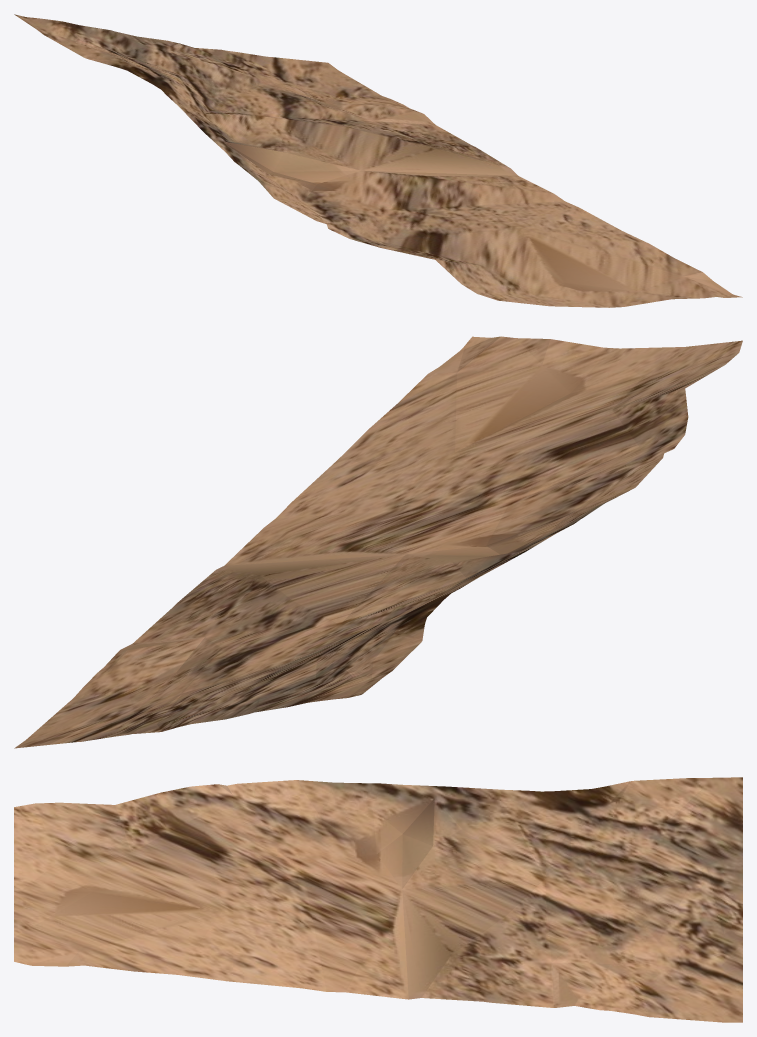
3 views of the same model, one above another, from view 1: azimuth 30°, elevation 25°; view 2: azimuth 150°, elevation 25°; view 3: azimuth 270°, elevation 25° (orthographic). The views are drawn at different scales.
Size of the model in its own units: 1.83 by 0.698 by 4.18.
Materials: 1 (1 with a texture image).
